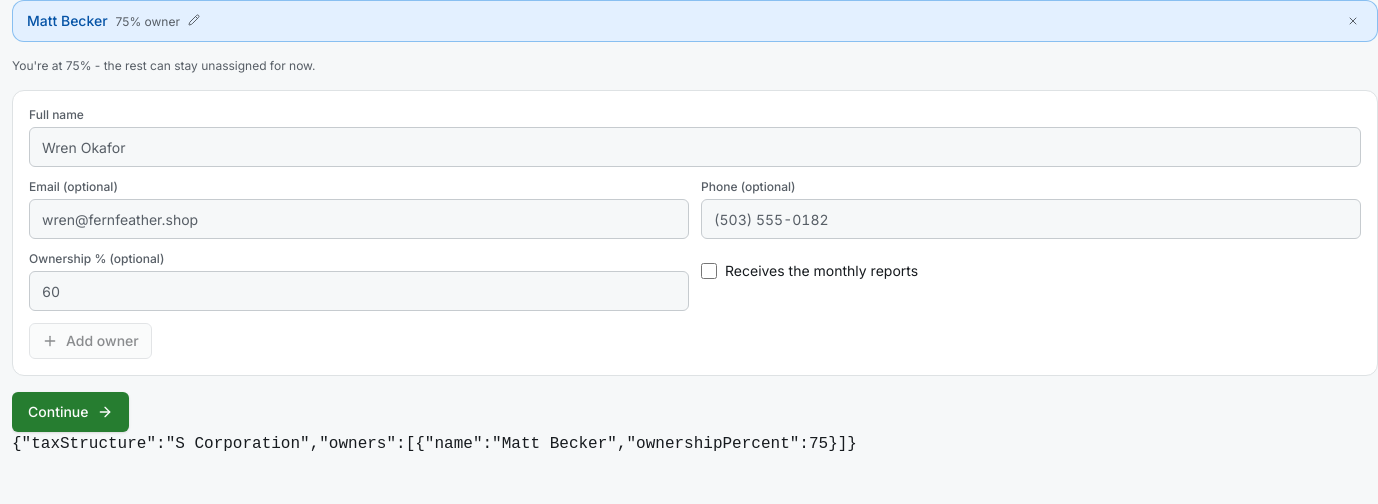
Scenario: B1: ownership_error_shows_remaining (09_30 00:04:41) › the add is refused at ADD time - the over-cap owner never lands
Type "Jason Yecny" into the field named "Full name" at (695,147), box [29,127,1361,167]
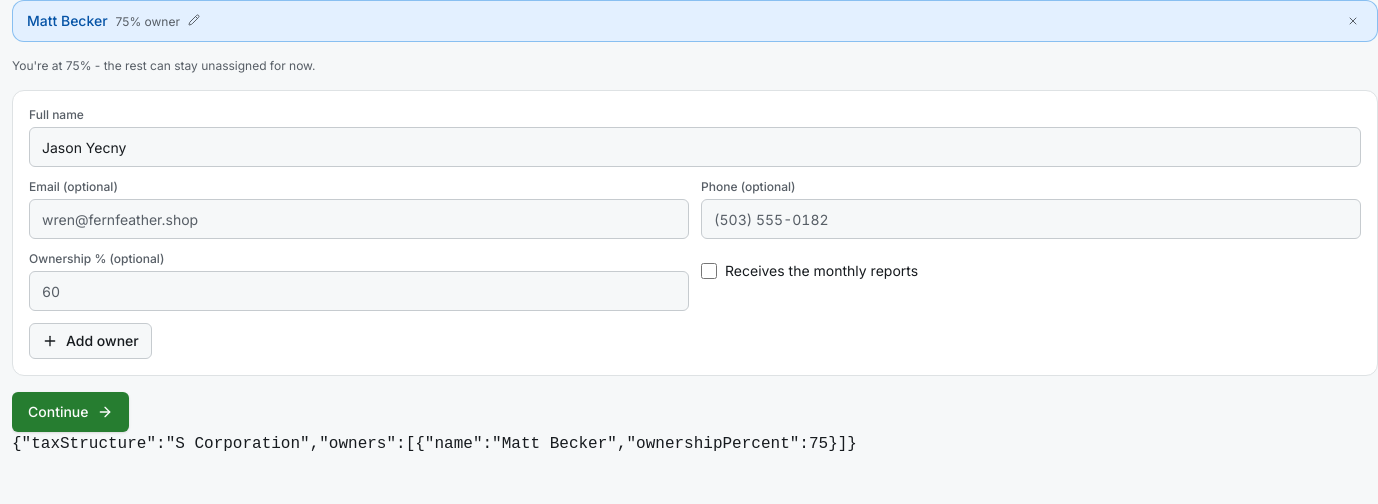
Type "45" into the number field named "ownership %" at (359,291), box [29,271,689,311]
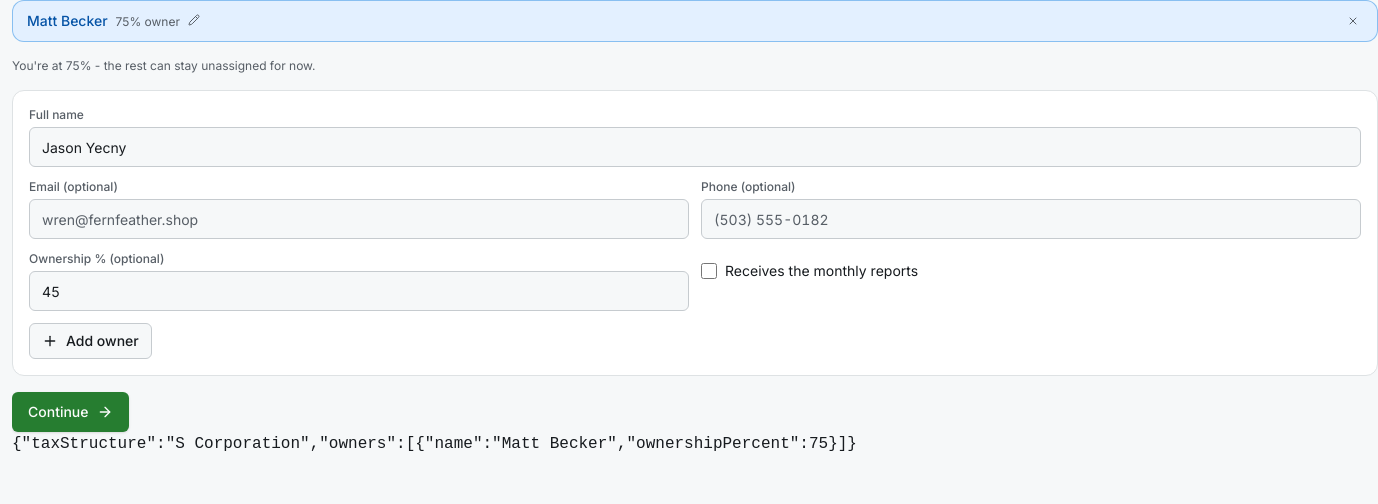
Click the button "Add owner" at (90,341), box [29,323,152,359]
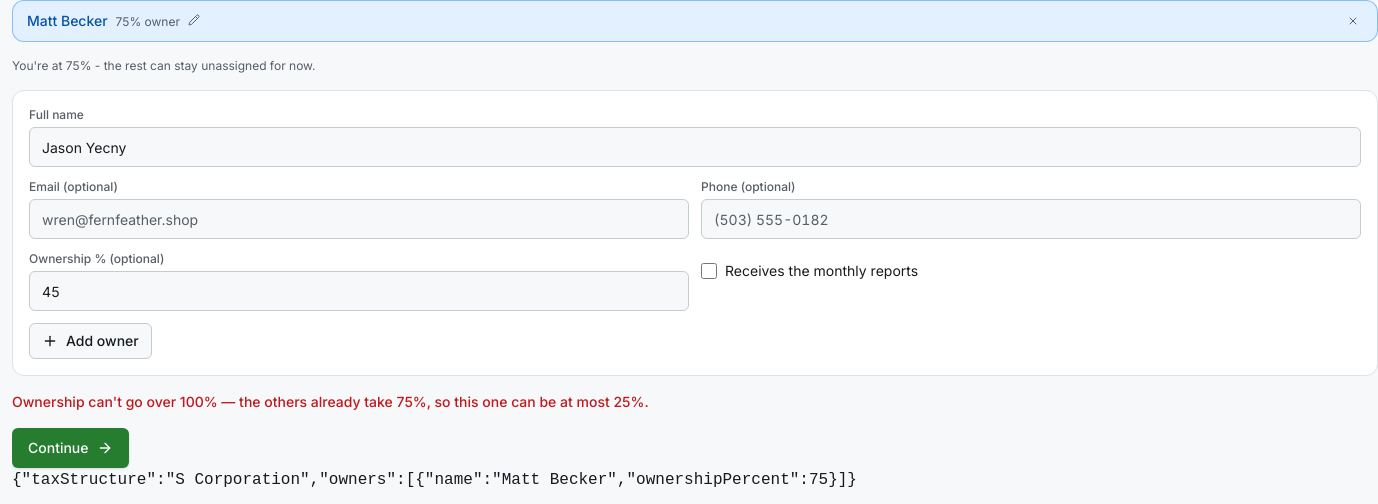
Expected: the message shows "at most 25%", [12,393,649,410]
